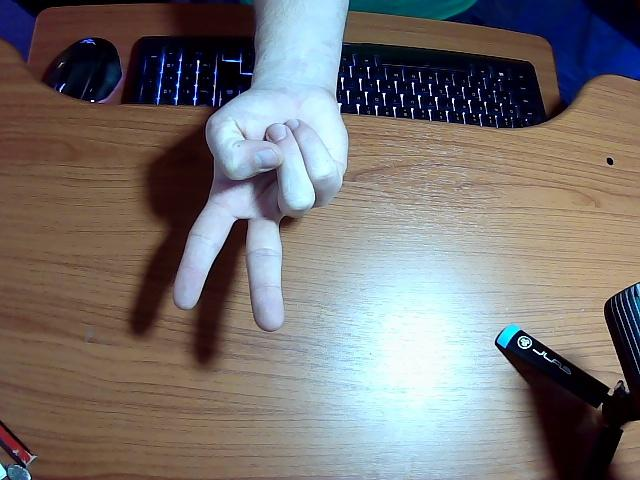scissors: (174, 0, 349, 331)
